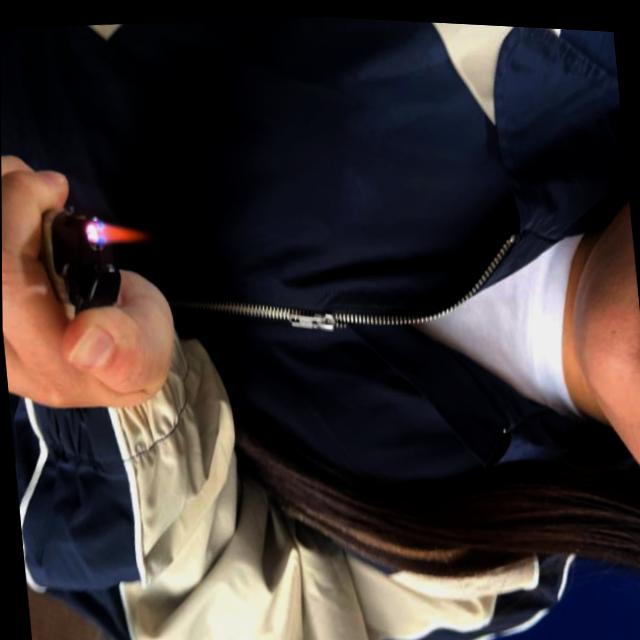Fire: (84, 210, 155, 247)
